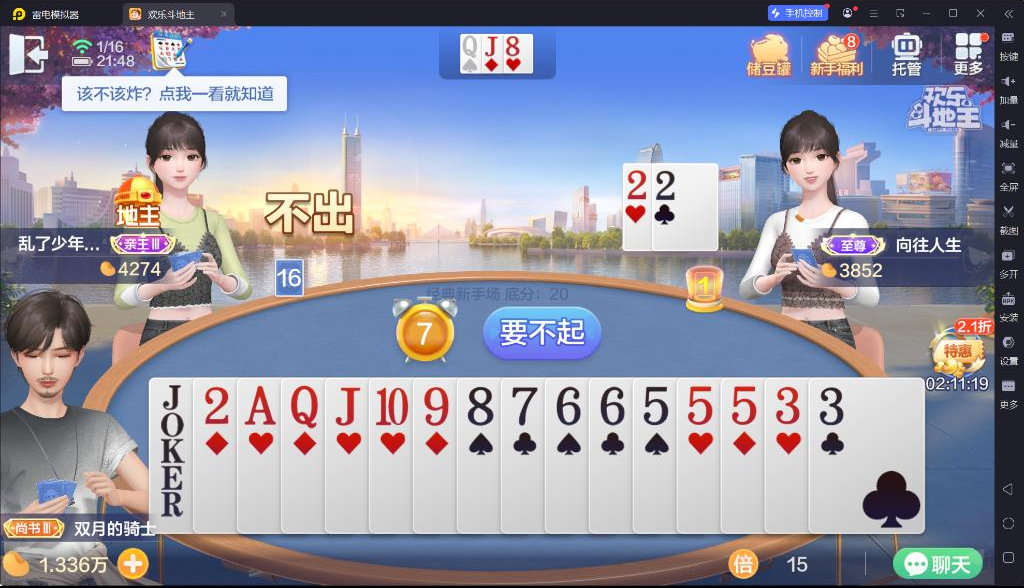A: (243, 384, 276, 427)
J: (332, 383, 362, 429), (482, 35, 501, 58)
Q: (287, 383, 321, 429), (461, 35, 479, 60)
eight: (465, 384, 495, 428), (505, 35, 522, 58)
five: (639, 384, 673, 427), (685, 384, 716, 427), (731, 384, 759, 426)
joker: (159, 382, 187, 466)
nine: (421, 385, 450, 426)
seven: (508, 384, 541, 428)
six: (551, 384, 583, 427), (597, 384, 626, 427)
ten: (374, 385, 410, 427)
three: (815, 385, 845, 427), (773, 385, 801, 426)
two: (202, 385, 234, 427), (627, 169, 650, 201), (655, 170, 677, 203)
